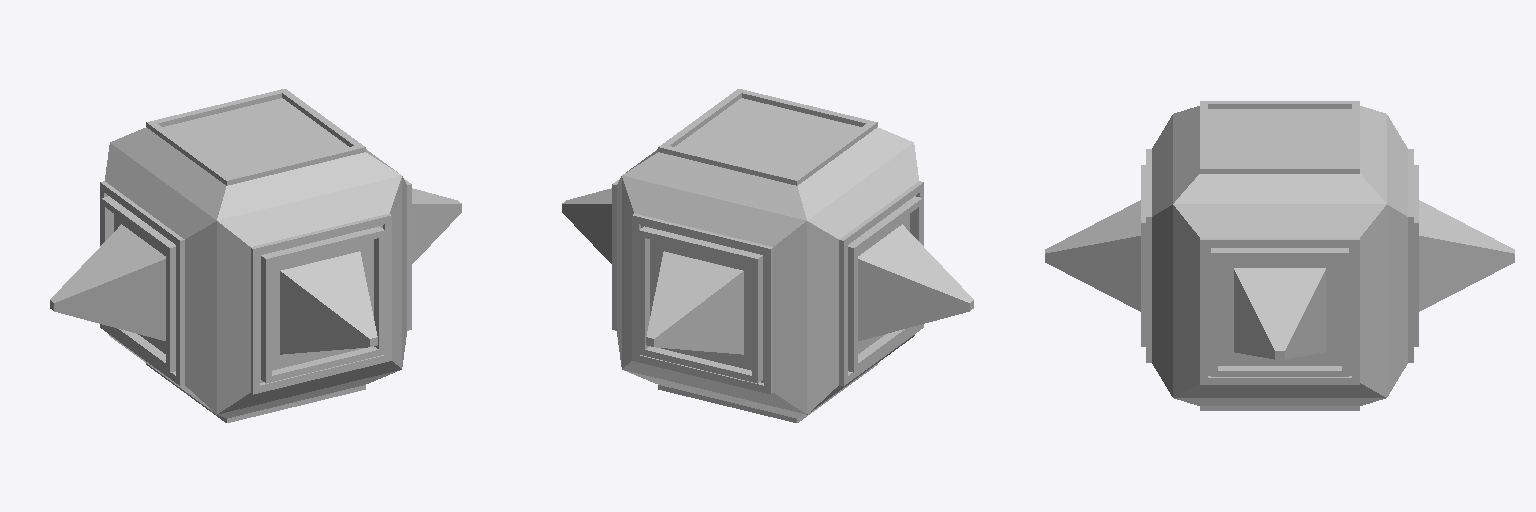
File: DiceSpike.obj
The picture shows the model from 3 angles: view 1: azimuth 30°, elevation 25°; view 2: azimuth 150°, elevation 25°; view 3: azimuth 270°, elevation 25°; orthographic projection.
Parts seen in each view (by area): view 1: Cube_Cube.001; view 2: Cube_Cube.001; view 3: Cube_Cube.001.
Part boxes in pixels (left/top/right/bottom): Cube_Cube.001: left=50, top=89, right=461, bottom=422; Cube_Cube.001: left=562, top=89, right=973, bottom=422; Cube_Cube.001: left=1045, top=101, right=1514, bottom=410.
Bounding box in the file's own units: 4.4 × 2.5 × 4.4.